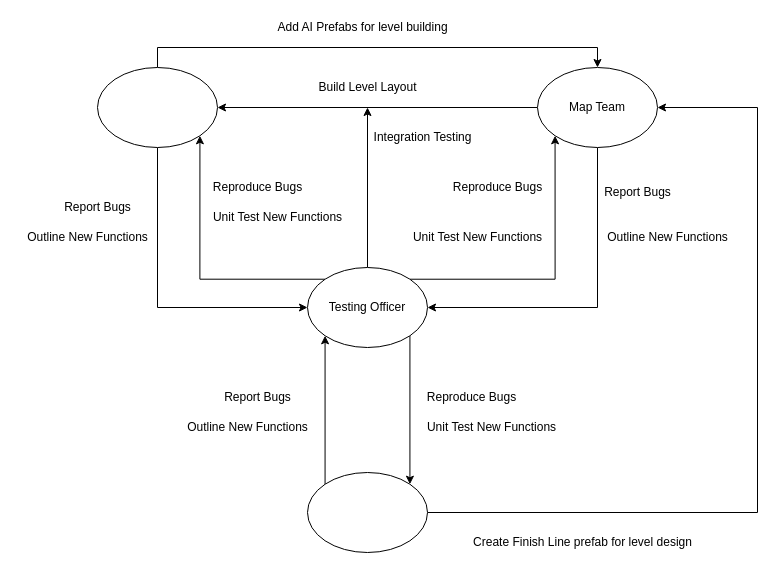
Image size: 783x570. Some labels were removed from this diagram. The centre of each missing label's shape, as x and y in pixels:
AI Team: [157,107]
Win/Lose Team: [367,512]
